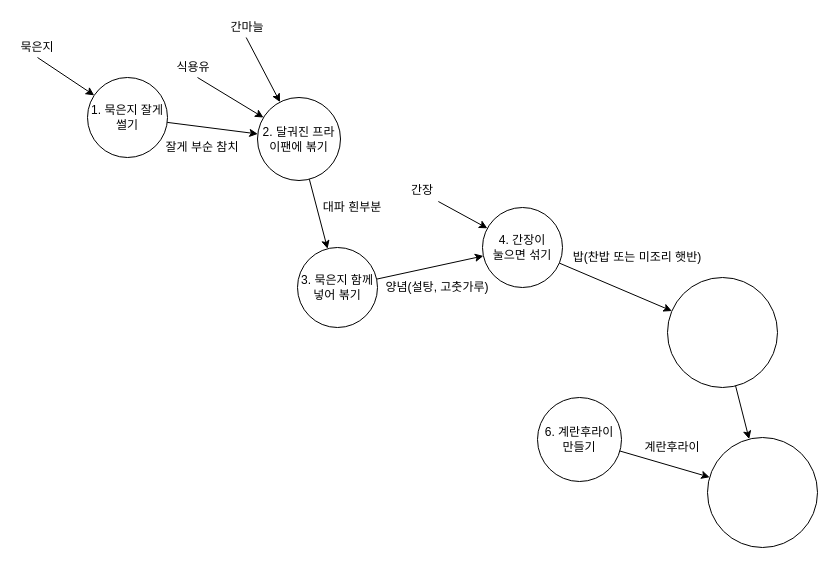
Image size: 835x565. Some labels were removed from this diagram. Each missing label, with the centre of its shape:
"5. 프라이팬 바닥 물기가 없어지면 불을 끄고 넣어서 잘 비비기" goes at (722,332).
"7. 먹기 좋게 담아서 계란후라이 올리기" goes at (762,492).
